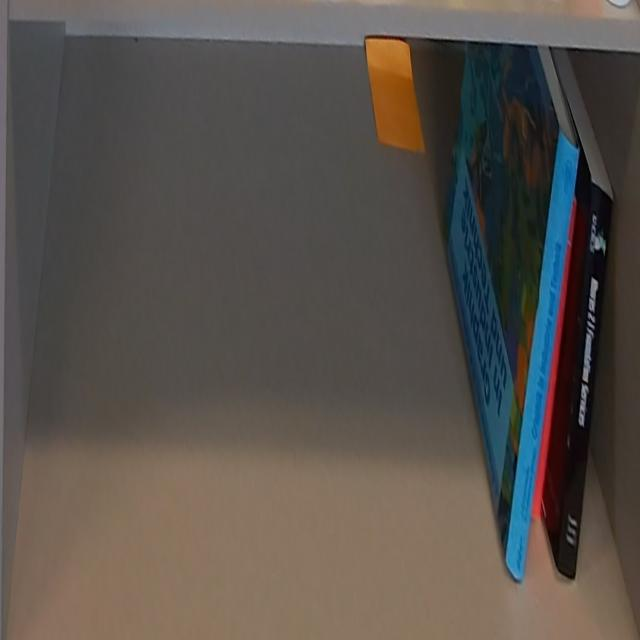Book Spine: (505, 130, 580, 586), (555, 183, 613, 581), (530, 195, 578, 523)
